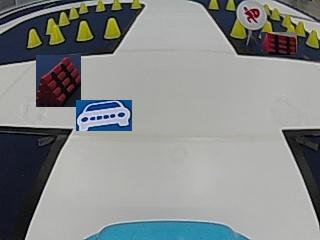thief: (236, 0, 267, 29)
